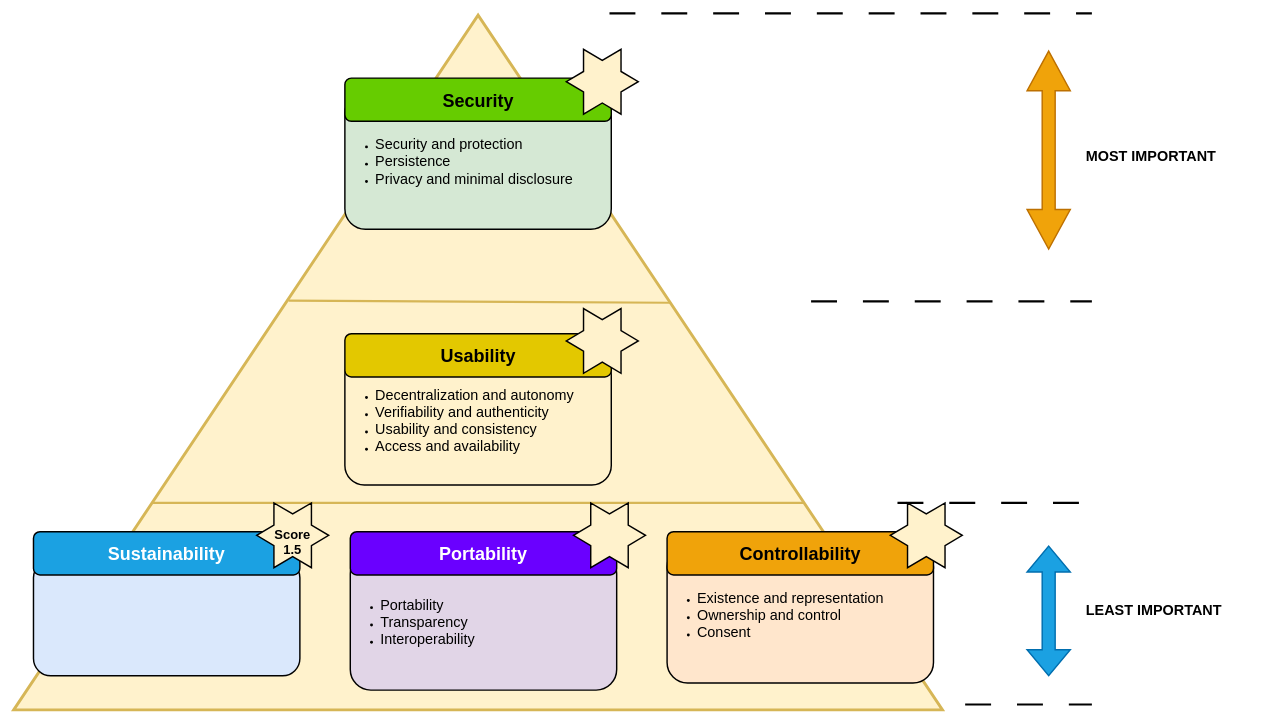
Some shapes in this 1270 by 724 pixel diagram are drawn without their labels. The shapes that lost their labels are listed below. From the top down, each one's centre as x and y in pixels, then its label:
[602,81]: Score 2.7
[602,340]: Score 2
[609,535]: Score 1.7
[926,535]: Score 1.3
[166,617]: Cost Standard
